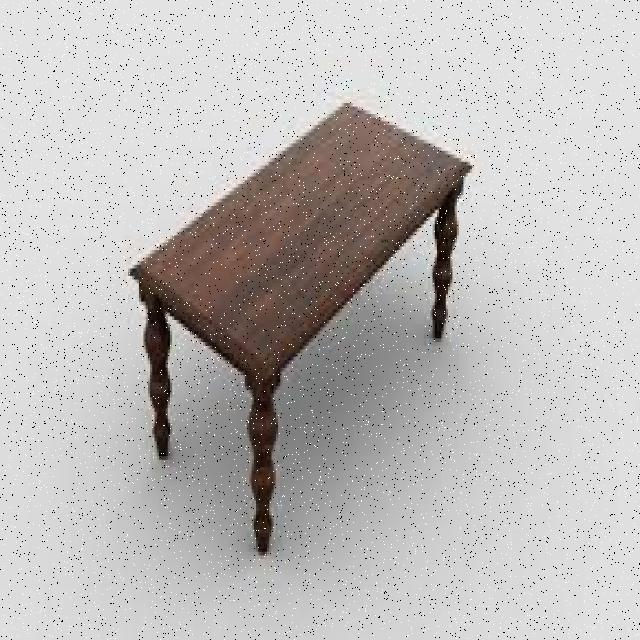mobile-phone: (128, 103, 472, 551)
